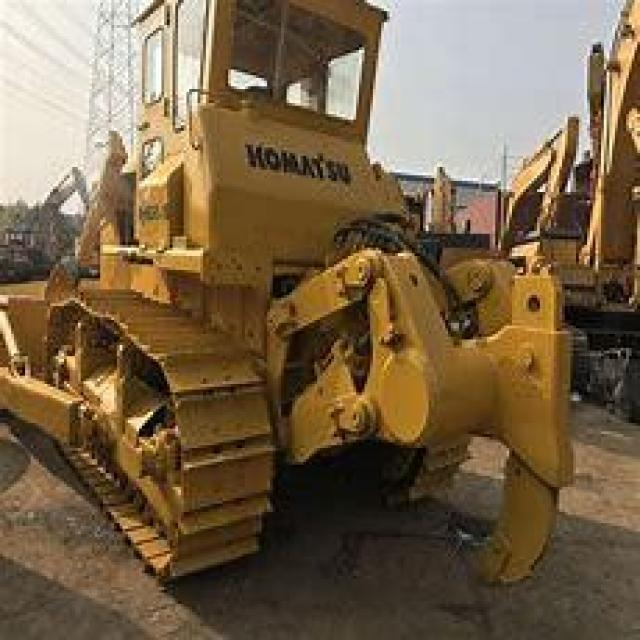Bulldozer: (5, 0, 615, 584)
